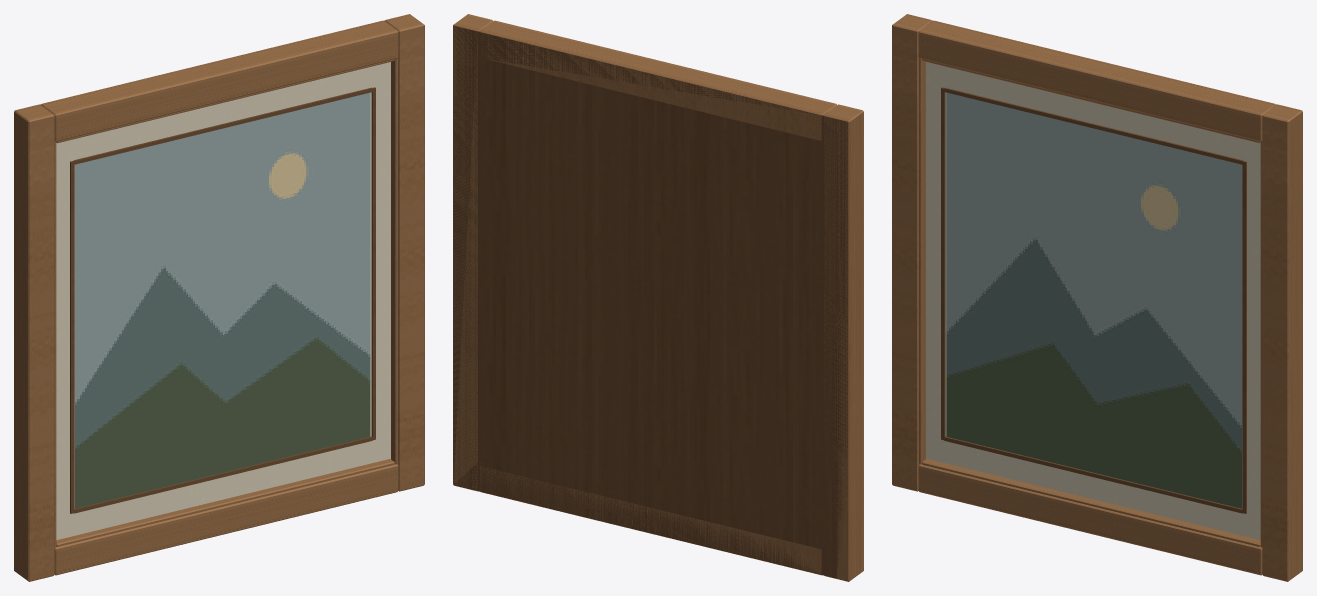
Rendered from landscape_frame.glb.
3 views of the same model, side by side, from view 1: azimuth 30°, elevation 25°; view 2: azimuth 150°, elevation 25°; view 3: azimuth 330°, elevation 25° (orthographic).
Parts seen in each view (by area): view 1: home_landscape_frame; view 2: home_landscape_frame; view 3: home_landscape_frame.
Boxes of the visible parts, <box> form: home_landscape_frame: <box>14,14,424,581</box>; home_landscape_frame: <box>453,14,863,581</box>; home_landscape_frame: <box>892,14,1302,581</box>.
Size of the model in its own units: 0.45 by 0.5 by 0.03.
Materials: 1 (1 with a texture image).
